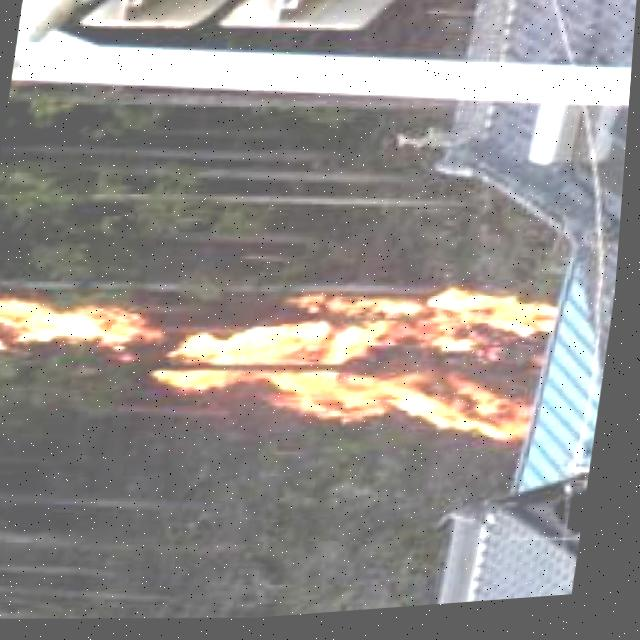Fire: (0, 228, 569, 477)
